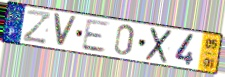0: (112, 24, 136, 58)
4: (173, 32, 197, 68)
E: (80, 19, 113, 54)
V: (52, 11, 79, 49)
X: (144, 26, 174, 65)
Z: (21, 8, 53, 46)
